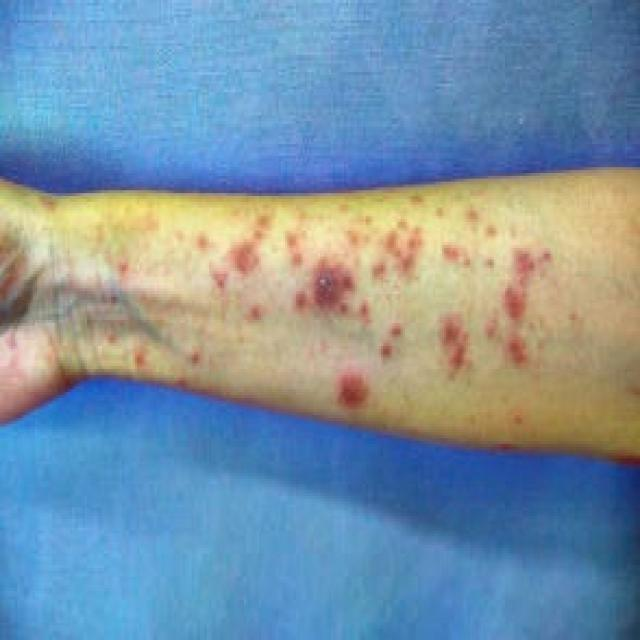Atopic-Dermatitis: (154, 214, 588, 418)
